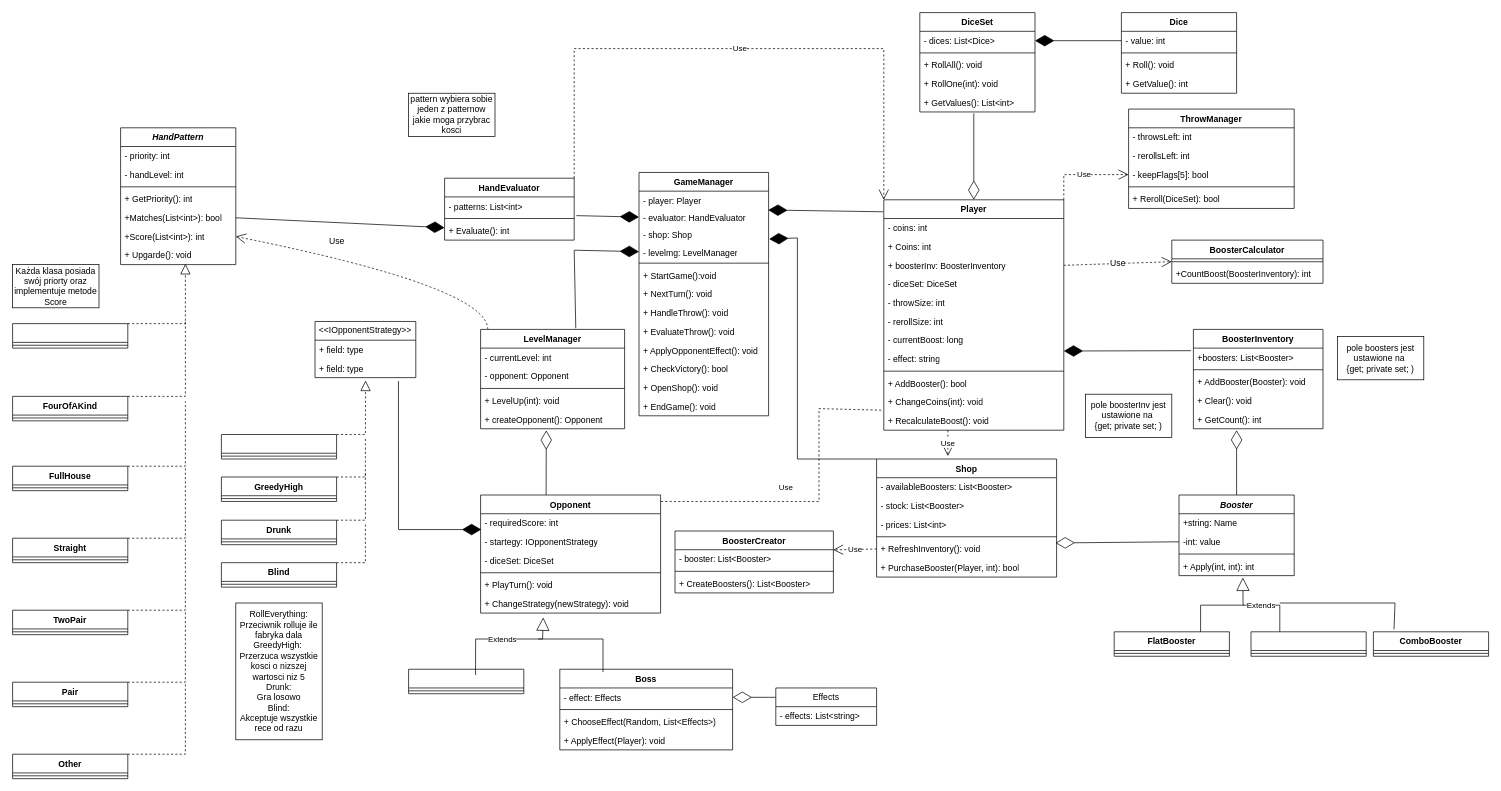
The diagram is 1501 pixels wide and 791 high, and some of its shapes have lost their labels. The centre of each missing label's shape, as x and y in pixels:
"MultiplyBooster" goes at pixel 1308 643.
"NormalOpponent" goes at pixel 466 681.
"RollEverything" goes at pixel 279 446.
"Yahtzee" goes at pixel 70 335.
